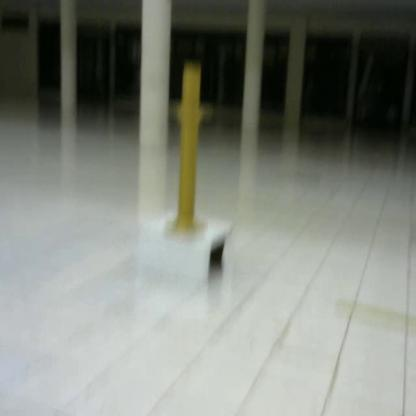pole: (161, 57, 219, 242)
